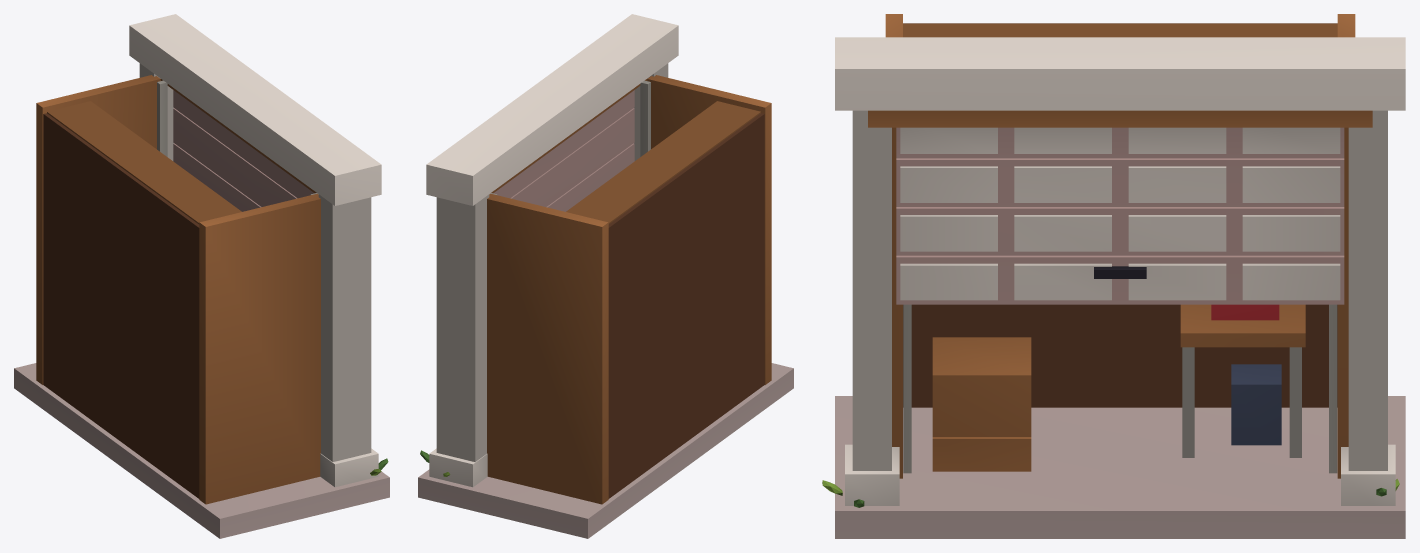
The model's file is house.garage.half.lod2.glb.
3 renders of one model, left to right at view 1: azimuth 30°, elevation 25°; view 2: azimuth 150°, elevation 25°; view 3: azimuth 270°, elevation 25°, orthographic. The views are drawn at different scales.
Visible parts, largest first — view 1: emitter:root:10; view 2: emitter:root:10; view 3: emitter:root:10.
Part boxes in pixels (x1,y1,x2,y2): emitter:root:10: (14,14,389,538); emitter:root:10: (418,14,793,538); emitter:root:10: (822,14,1405,538).
Size of the model in its own units: 1.29 by 2.34 by 2.66.
